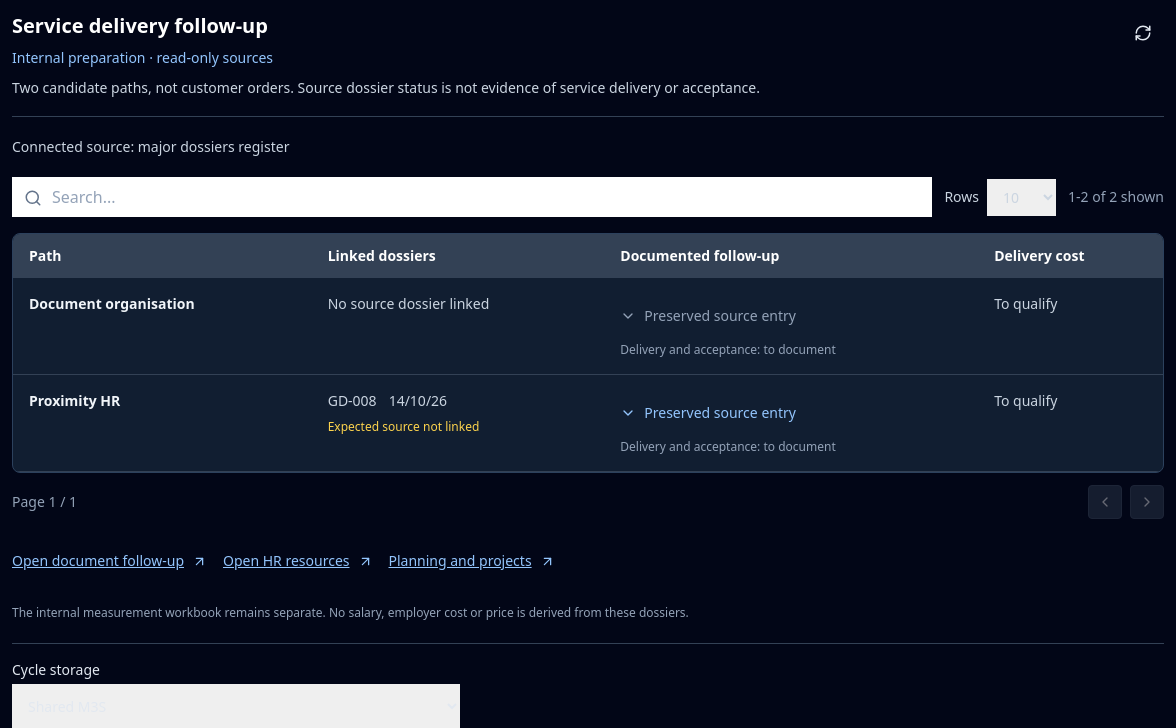
renders EN controls and dates without inventing receipt or costs
Check: the heading "Service delivery follow-up" is shown, box [12, 12, 268, 39]
Click the button with aria-label "Preserved source entry · Proximity HR" at (708, 413), box [620, 391, 796, 435]
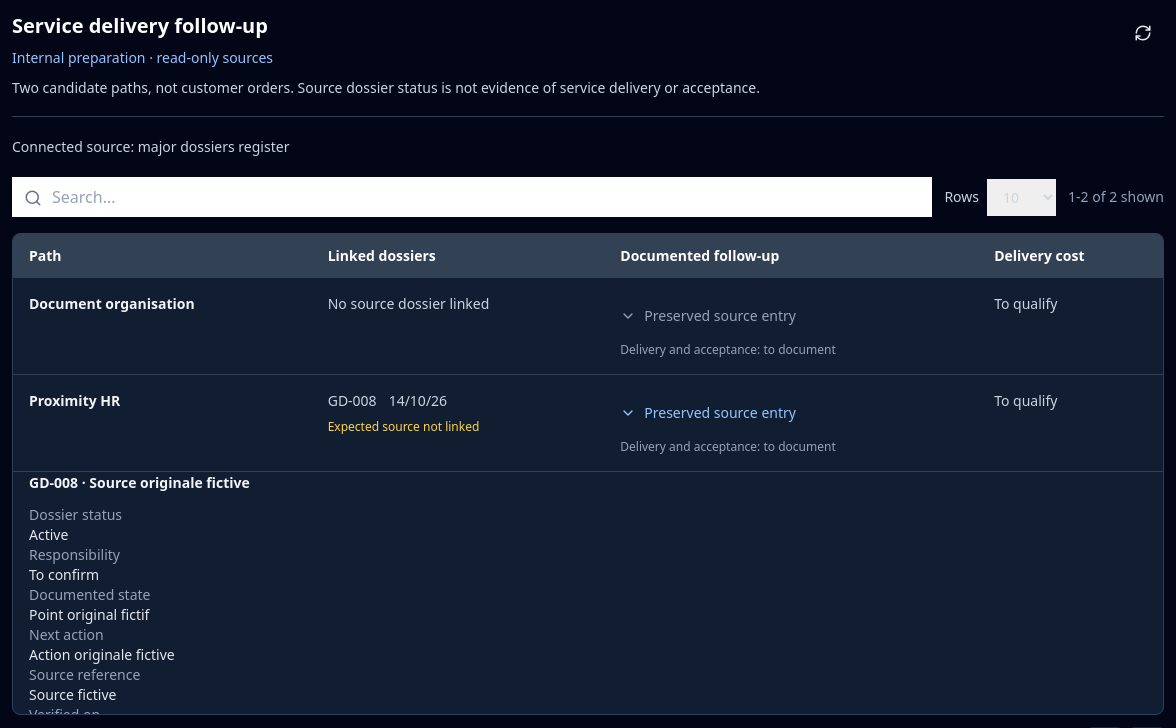
Check: the text "14/10/26" is shown, box [389, 391, 447, 410]
Check: the text "Action originale fictive" is shown, box [29, 645, 175, 664]
Click the button with aria-label "Preserved source entry · Proximity HR" at (708, 413), box [620, 391, 796, 435]
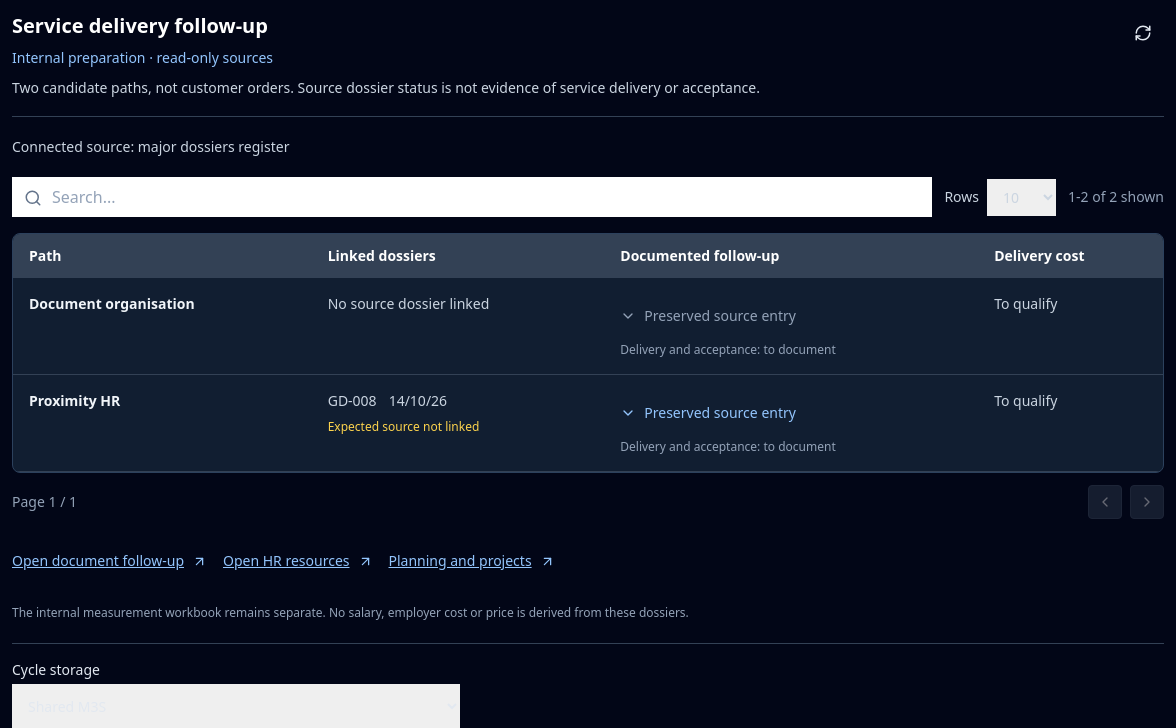
Check: the text "Action originale fictive" is gone
